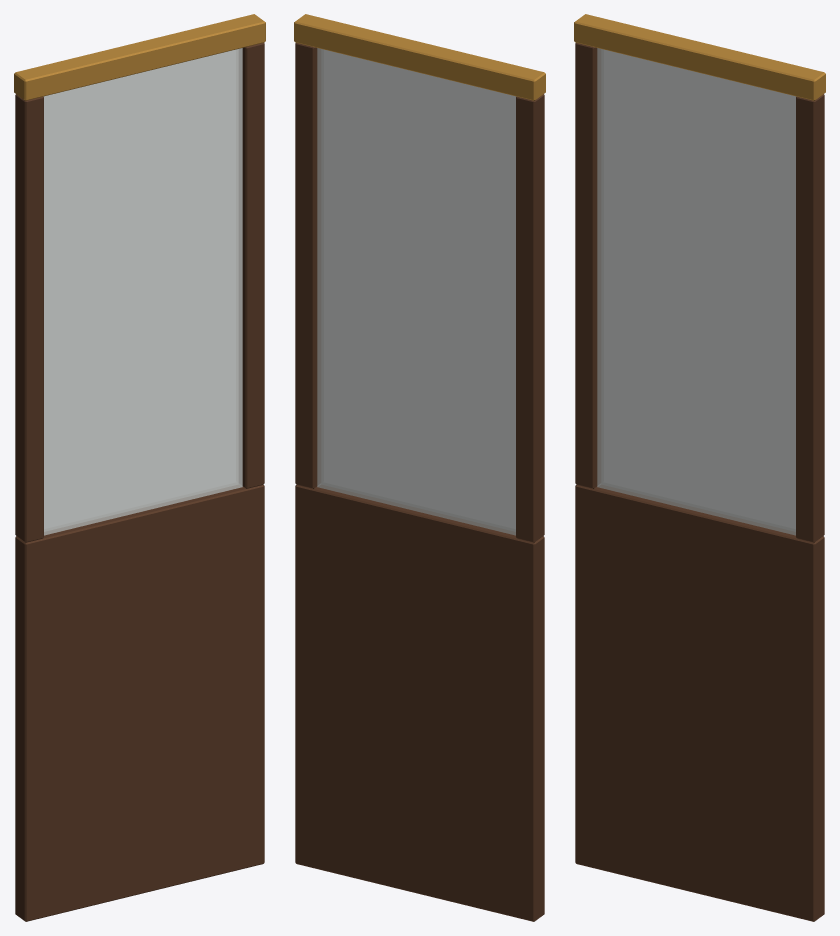
Rendered from prop_of_booth_partition.glb.
3 renders of one model, left to right at view 1: azimuth 30°, elevation 25°; view 2: azimuth 150°, elevation 25°; view 3: azimuth 330°, elevation 25°, orthographic.
Parts seen in each view (by area): view 1: Partition; view 2: Partition; view 3: Partition.
Part boxes in pixels (x1,y1,x2,y2): Partition: (14,14,265,921); Partition: (294,14,545,921); Partition: (574,14,825,921).
Bounding box in the file's own units: 0.6 × 2 × 0.05.
